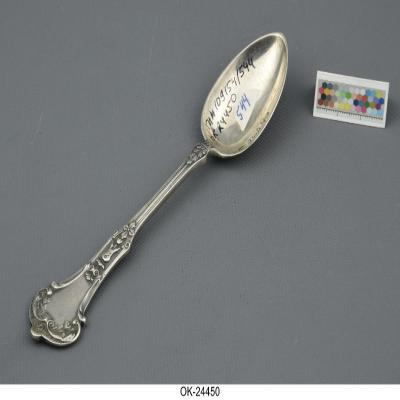dpi: (28, 33, 289, 349)
